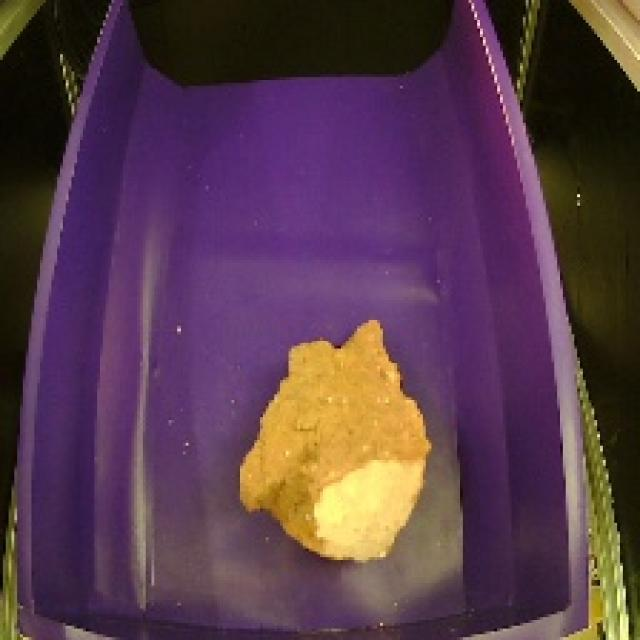brick: (220, 302, 442, 566)
